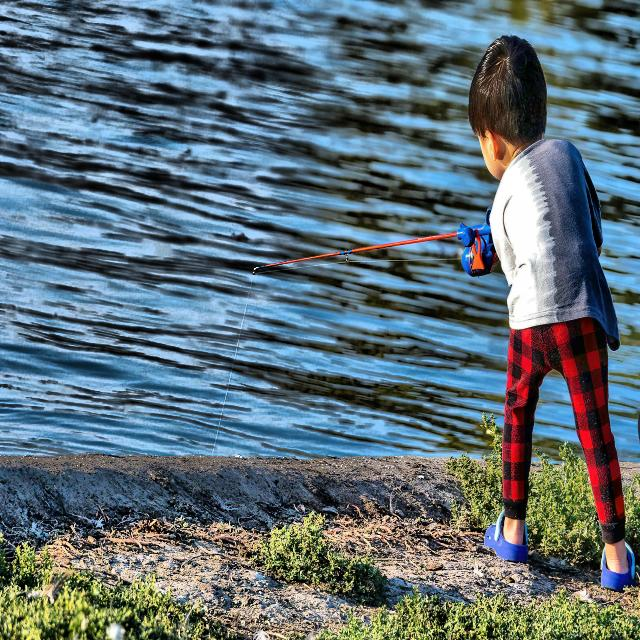Human: (447, 26, 640, 592)
